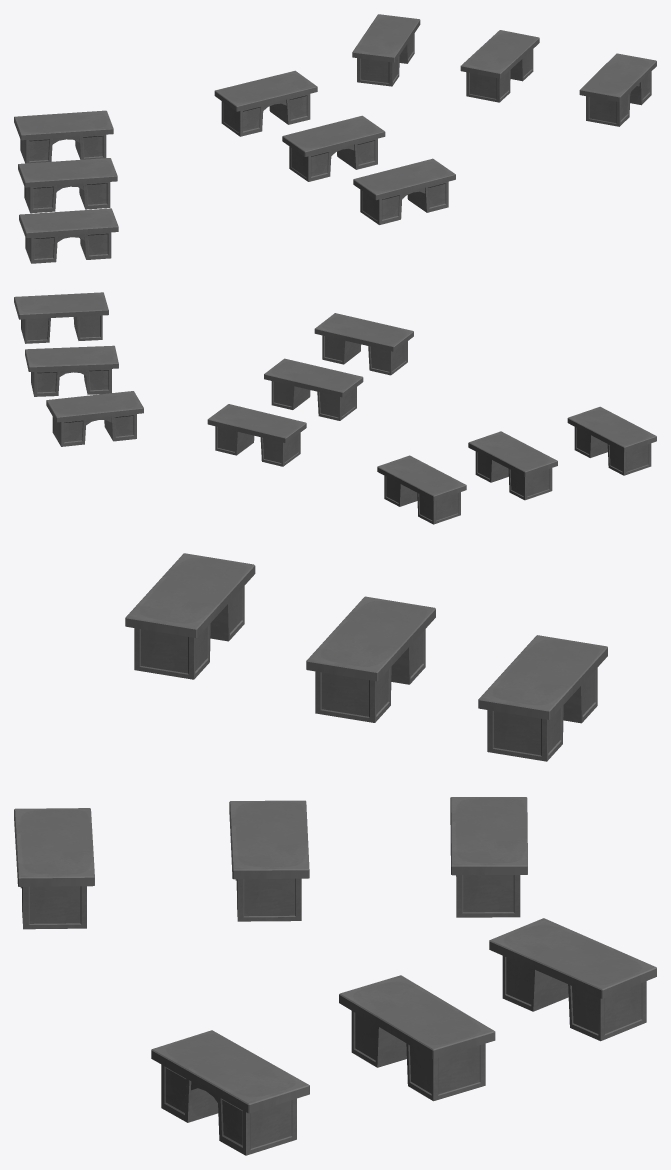
File: MainDesk(merge).fbx
3 views of the same model, one above another, from view 1: azimuth 30°, elevation 25°; view 2: azimuth 150°, elevation 25°; view 3: azimuth 270°, elevation 25° (orthographic). The views are drawn at different scales.
Visible parts, largest first — view 1: desk21, desk13, desk5, desk17, desk1, desk9, desk25, desk29, desk33, desk26, desk32, desk14 (+14 smaller); view 2: desk21, desk17, desk13, desk33, desk25, desk29, desk9, desk5, desk1, desk10, desk2, desk6 (+15 smaller); view 3: desk33, desk25, desk29, desk1, desk9, desk5, desk17, desk21, desk13, desk30, desk28, desk34 (+12 smaller).
Part boxes in pixels (x1,y1,x2,y2): desk21: (282, 115, 385, 156); desk13: (214, 70, 317, 111); desk5: (14, 110, 113, 140); desk17: (353, 158, 455, 200); desk1: (19, 208, 118, 237); desk9: (18, 158, 117, 187); desk25: (579, 53, 656, 102); desk29: (460, 30, 539, 78); desk33: (352, 14, 420, 62); desk26: (586, 93, 630, 126); desk32: (466, 70, 510, 102); desk14: (221, 101, 263, 136); desk21: (264, 358, 363, 397); desk17: (314, 313, 413, 351); desk13: (207, 404, 306, 443); desk33: (46, 391, 143, 422); desk25: (14, 292, 108, 319); desk29: (25, 345, 118, 371); desk9: (468, 431, 557, 476); desk5: (377, 455, 466, 500); desk1: (567, 406, 656, 452); desk10: (508, 468, 552, 500); desk2: (607, 443, 651, 475); desk6: (417, 492, 460, 524); desk33: (489, 918, 656, 998); desk25: (151, 1030, 309, 1113); desk29: (339, 975, 495, 1058); desk1: (125, 553, 255, 637); desk9: (306, 596, 435, 681); desk5: (478, 635, 607, 719); desk17: (14, 808, 94, 886); desk21: (229, 800, 309, 879); desk13: (450, 797, 527, 875); desk30: (406, 1043, 485, 1101); desk28: (217, 1096, 296, 1155); desk34: (568, 981, 646, 1041).
Bounding box in the file's own units: 18.65 × 0.8979 × 9.19.
